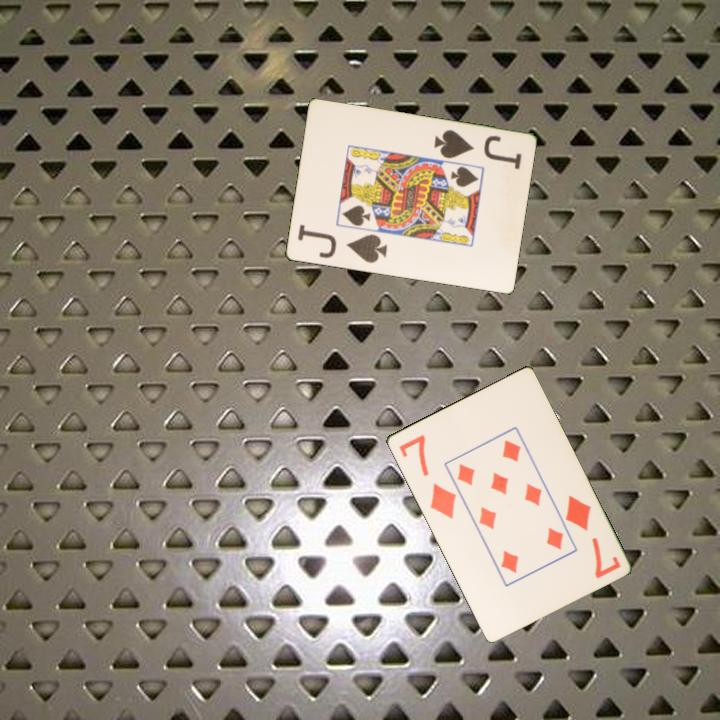7d: (394, 431, 459, 522), (561, 491, 623, 581)
Js: (430, 126, 524, 172), (294, 221, 390, 266)
